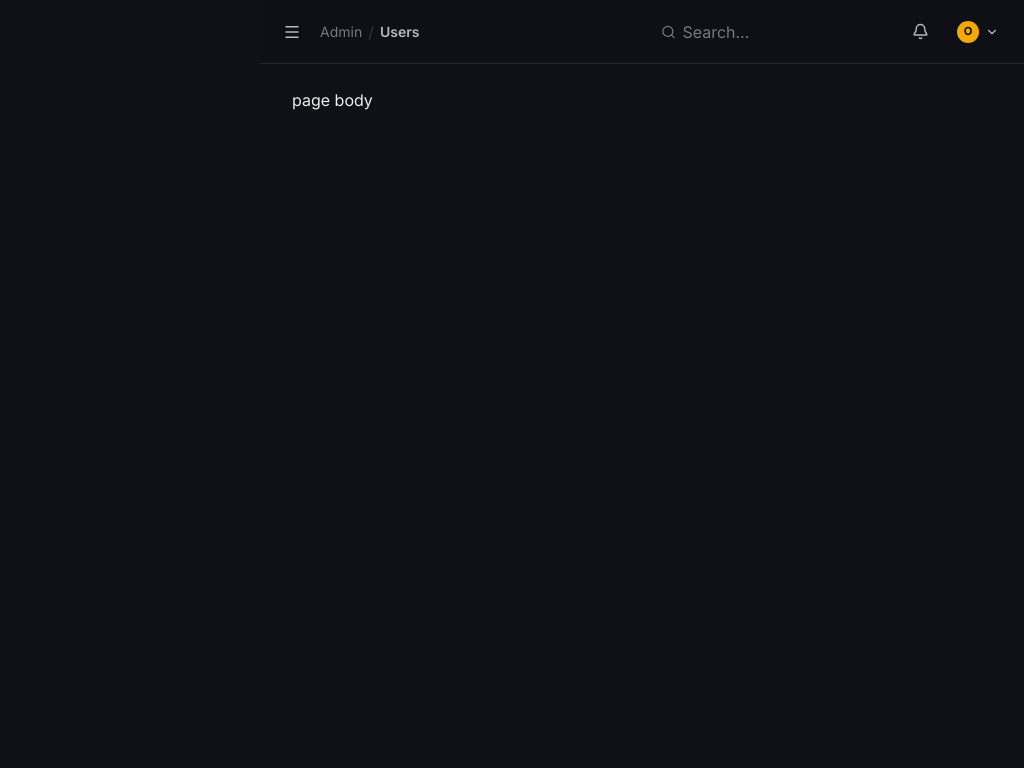
it: Sidebar — mobile drawer › tracks the drawer state on the menu button
Click the button named "open navigation" at coordinates (292, 32), box [276,16,308,48]
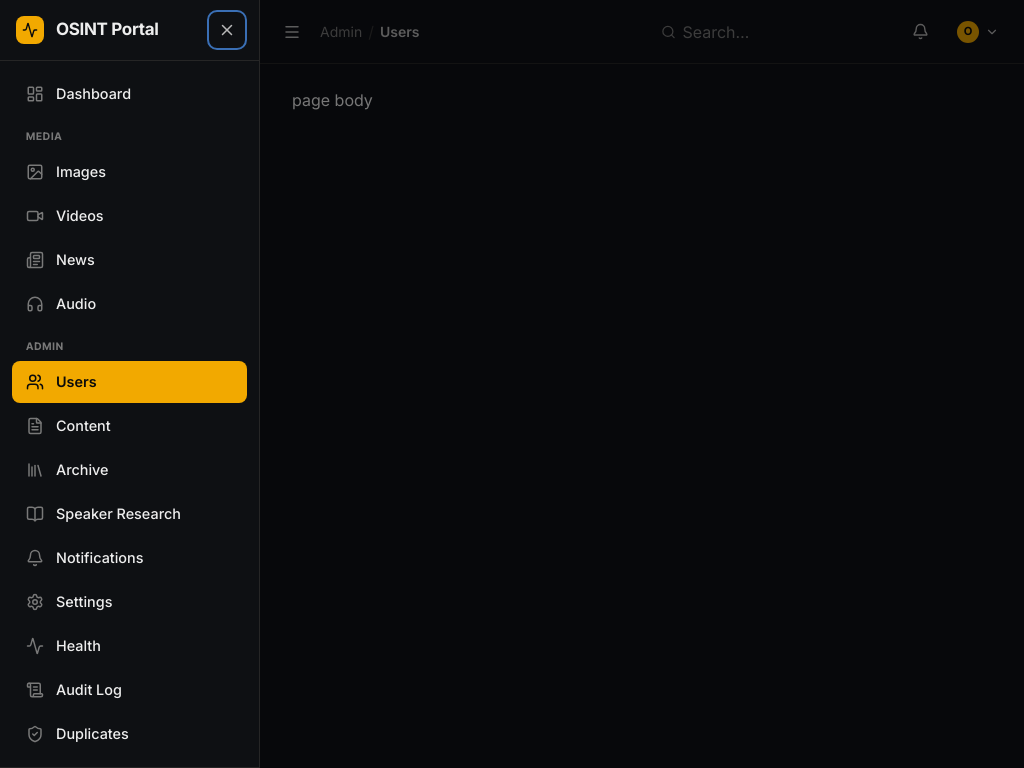
Expected: the button named "hide navigation" is expanded, [276,16,308,48]
